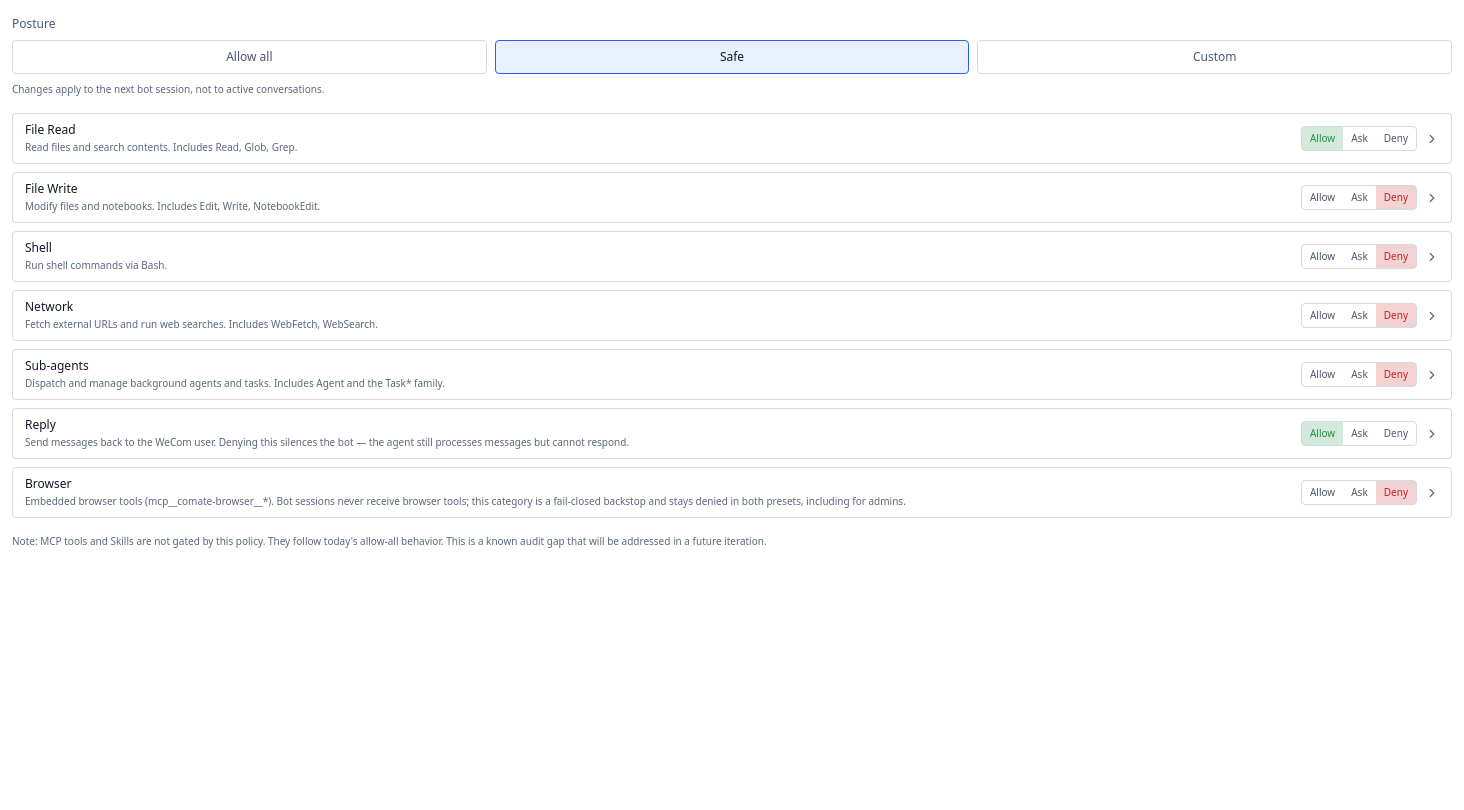
Test: PermissionsSubTab › expanding a category shows the tool list with override controls
The width and height of the screenshot is (1464, 810).
# Shell category only contains Bash — expand it
Click the button named "expand" in the row of "Run shell commands via Bash.": (1432, 256) [1425, 250, 1439, 264]
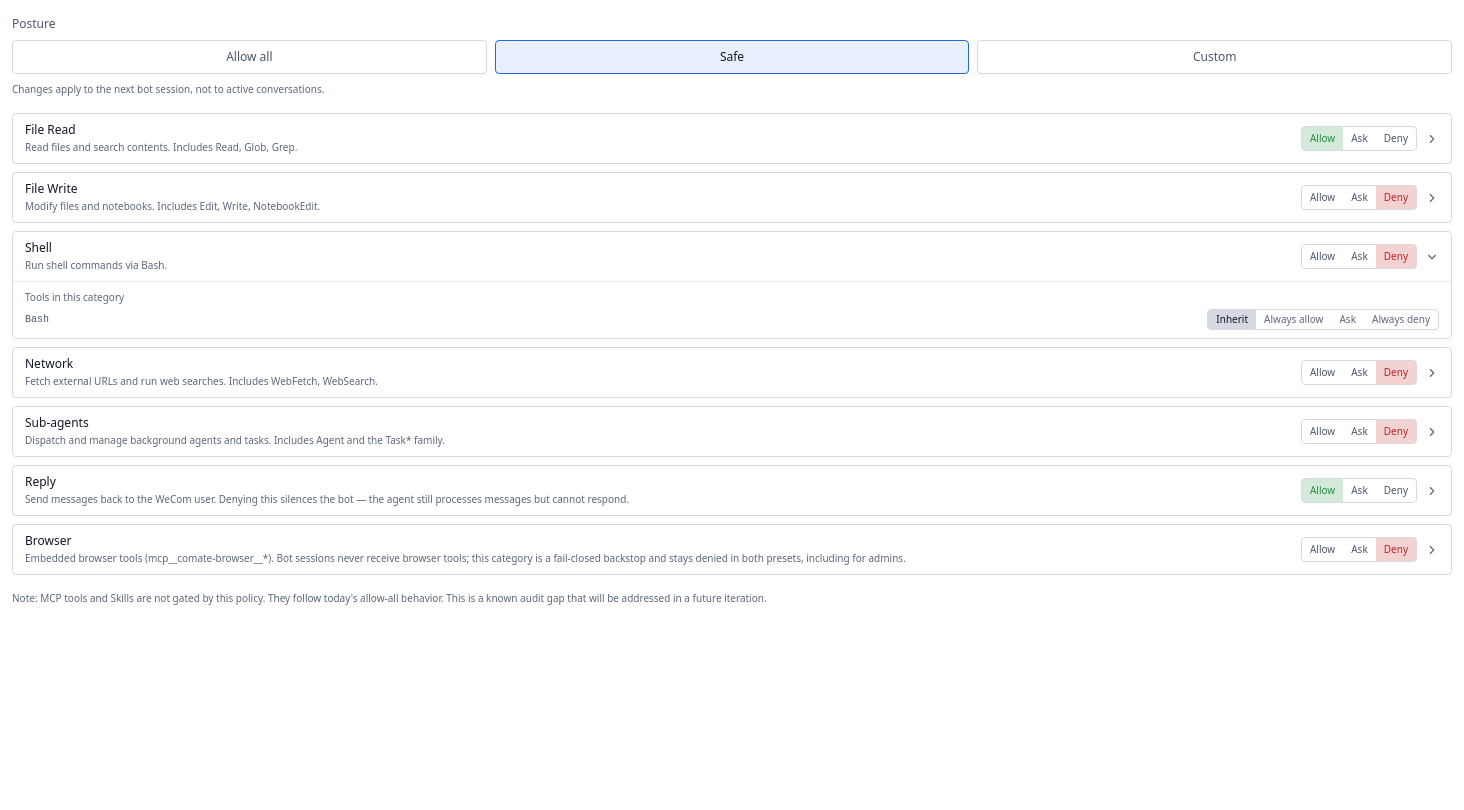
Expected: the text "Bash" is shown, [25, 312, 49, 327]
